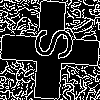S: (25, 25, 74, 62)
